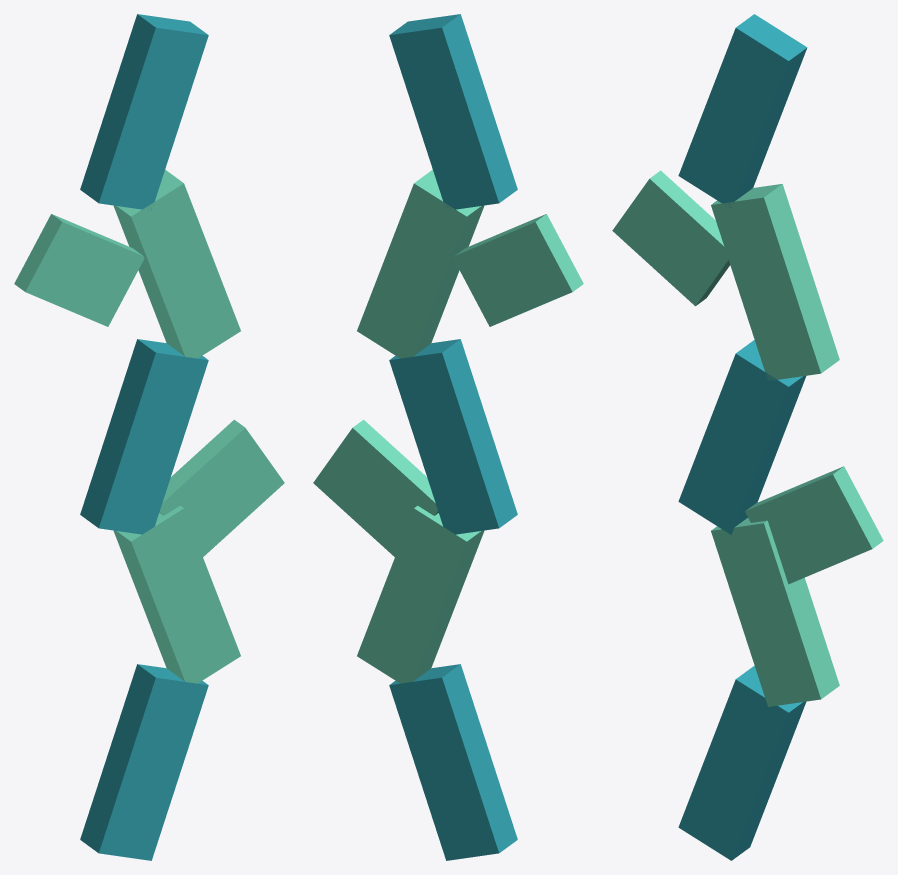
File: kelp.glb
3 views of the same model, side by side, from view 1: azimuth 30°, elevation 25°; view 2: azimuth 150°, elevation 25°; view 3: azimuth 330°, elevation 25° (orthographic).
Parts seen in each view (by area): view 1: Seg4, Seg0, Seg2, Seg3, Seg1, LeafB, LeafA; view 2: Seg4, Seg0, Seg2, Seg3, Seg1, LeafB, LeafA; view 3: Seg3, Seg4, Seg1, Seg0, Seg2, LeafA, LeafB.
Part boxes in pixels (<box>): Seg4: <box>80,14,208,210</box>; Seg0: <box>80,664,208,860</box>; Seg2: <box>80,339,208,534</box>; Seg3: <box>113,169,240,358</box>; Seg1: <box>113,505,240,683</box>; LeafB: <box>14,214,144,326</box>; LeafA: <box>159,419,284,556</box>; Seg4: <box>389,14,517,209</box>; Seg0: <box>389,664,517,860</box>; Seg2: <box>389,339,517,534</box>; Seg3: <box>357,169,484,358</box>; Seg1: <box>357,505,484,683</box>; LeafB: <box>453,214,583,326</box>; LeafA: <box>313,419,438,556</box>; Seg3: <box>711,184,839,380</box>; Seg4: <box>678,14,807,207</box>; Seg1: <box>711,518,839,706</box>; Seg0: <box>678,665,806,860</box>; Seg2: <box>678,340,806,534</box>; LeafA: <box>745,466,883,584</box>; LeafB: <box>612,170,729,306</box>.
Bounding box in the file's own units: 0.8024 × 2.46 × 0.1.
